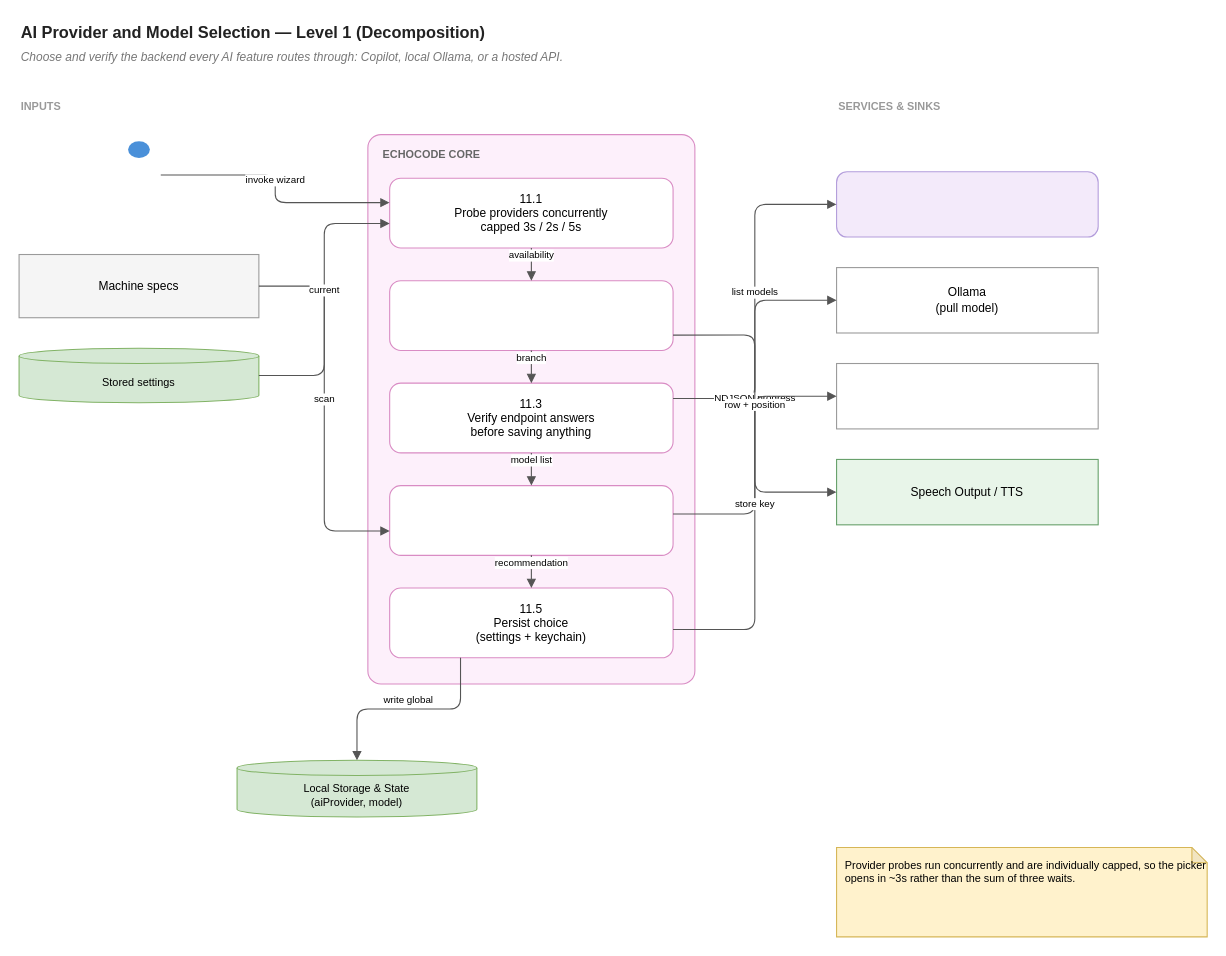
Some shapes in this 1226 by 956 pixel diagram are drawn without their labels. Each missing label, with the centre of its shape:
11.2 Announce + present fork API or local Ollama: point (531, 315)
11.4 Recommend a local model from memory budget: point (531, 520)
AI Services (probe / verify): point (966, 204)
OS keychain: point (966, 395)
Users: point (138, 174)
